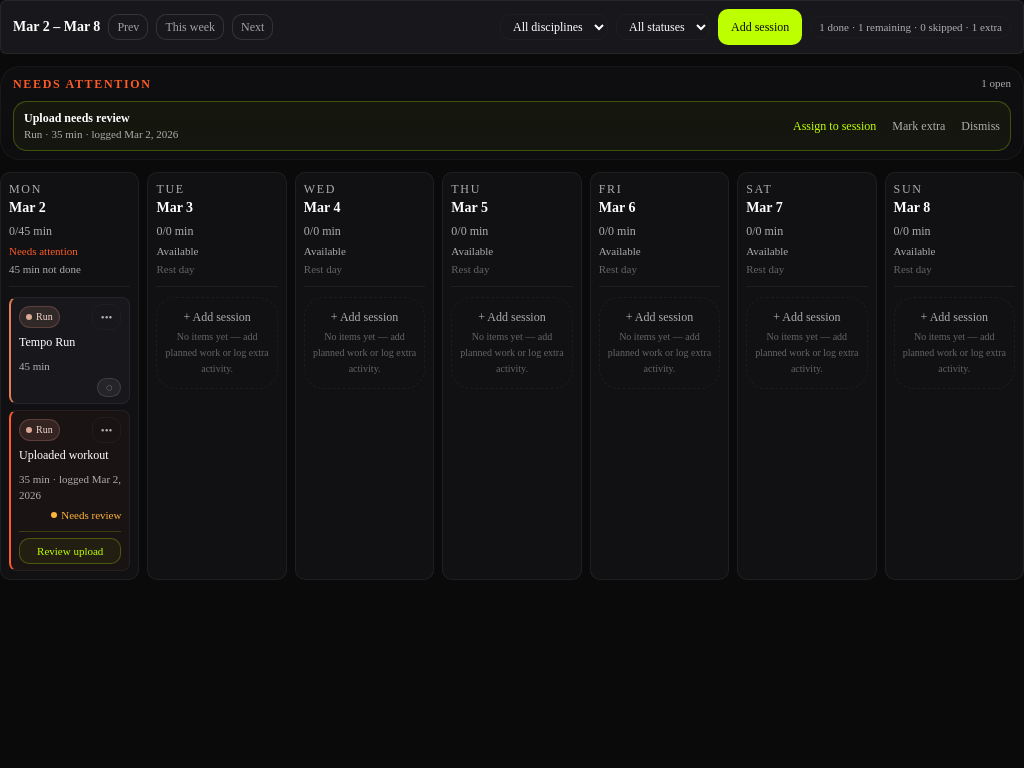
WeekCalendar › allows marking unmatched upload as extra so it appears as extra workout item
Click the button "Mark extra": (919, 126) [892, 118, 945, 134]
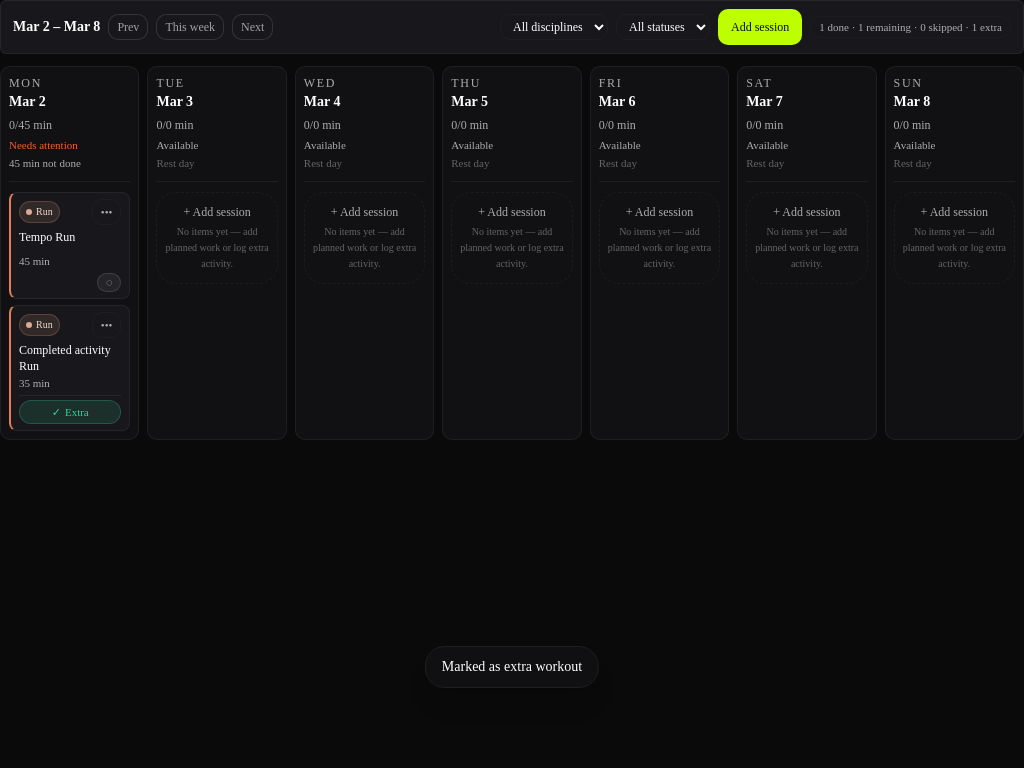
expect the text "Upload needs review" is gone: met
